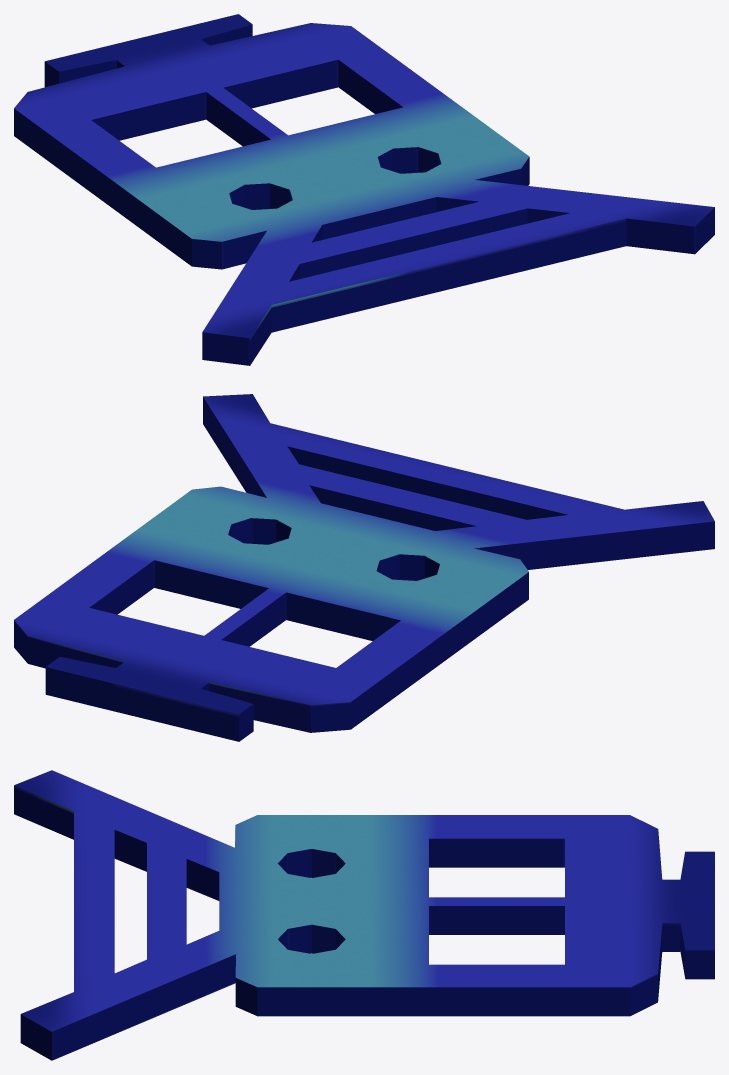
File: model_train.obj
The picture shows the model from 3 angles, top to bottom: view 1: azimuth 30°, elevation 25°; view 2: azimuth 150°, elevation 25°; view 3: azimuth 270°, elevation 25°; orthographic projection. The views are drawn at different scales.
Visible parts, largest first — view 1: Train_Plane.001; view 2: Train_Plane.001; view 3: Train_Plane.001.
Part boxes in pixels (left/top/right/bottom): Train_Plane.001: left=14, top=14, right=714, bottom=365; Train_Plane.001: left=14, top=394, right=714, bottom=741; Train_Plane.001: left=14, top=770, right=714, bottom=1060.
Bounding box in the file's own units: 1.58 × 0.0814 × 1.78.
1 material, 1 textured.
